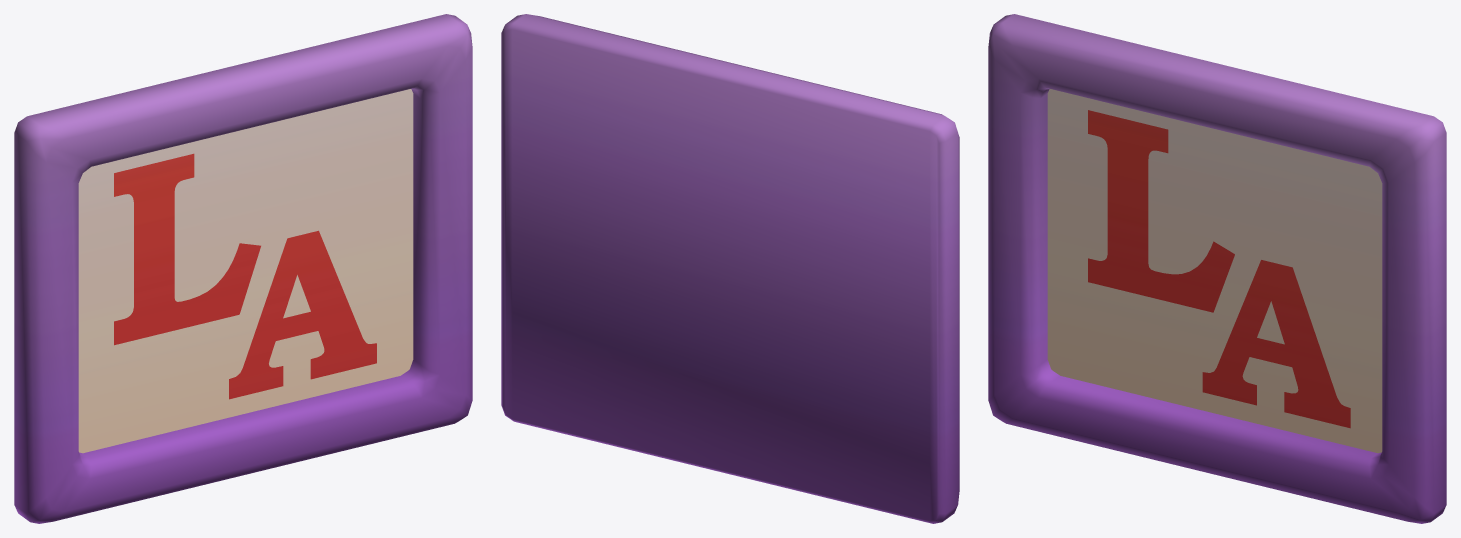
The model's file is Picture_23.glb.
3 renders of one model, left to right at view 1: azimuth 30°, elevation 25°; view 2: azimuth 150°, elevation 25°; view 3: azimuth 330°, elevation 25°, orthographic.
Parts seen in each view (by area): view 1: Picture_23; view 2: Picture_23; view 3: Picture_23.
Part boxes in pixels (left/top/right/bottom): Picture_23: left=14, top=14, right=472, bottom=523; Picture_23: left=501, top=14, right=959, bottom=523; Picture_23: left=988, top=14, right=1446, bottom=523.
Bounding box in the file's own units: 0.7 × 0.6 × 0.06.
1 material, 1 textured.
